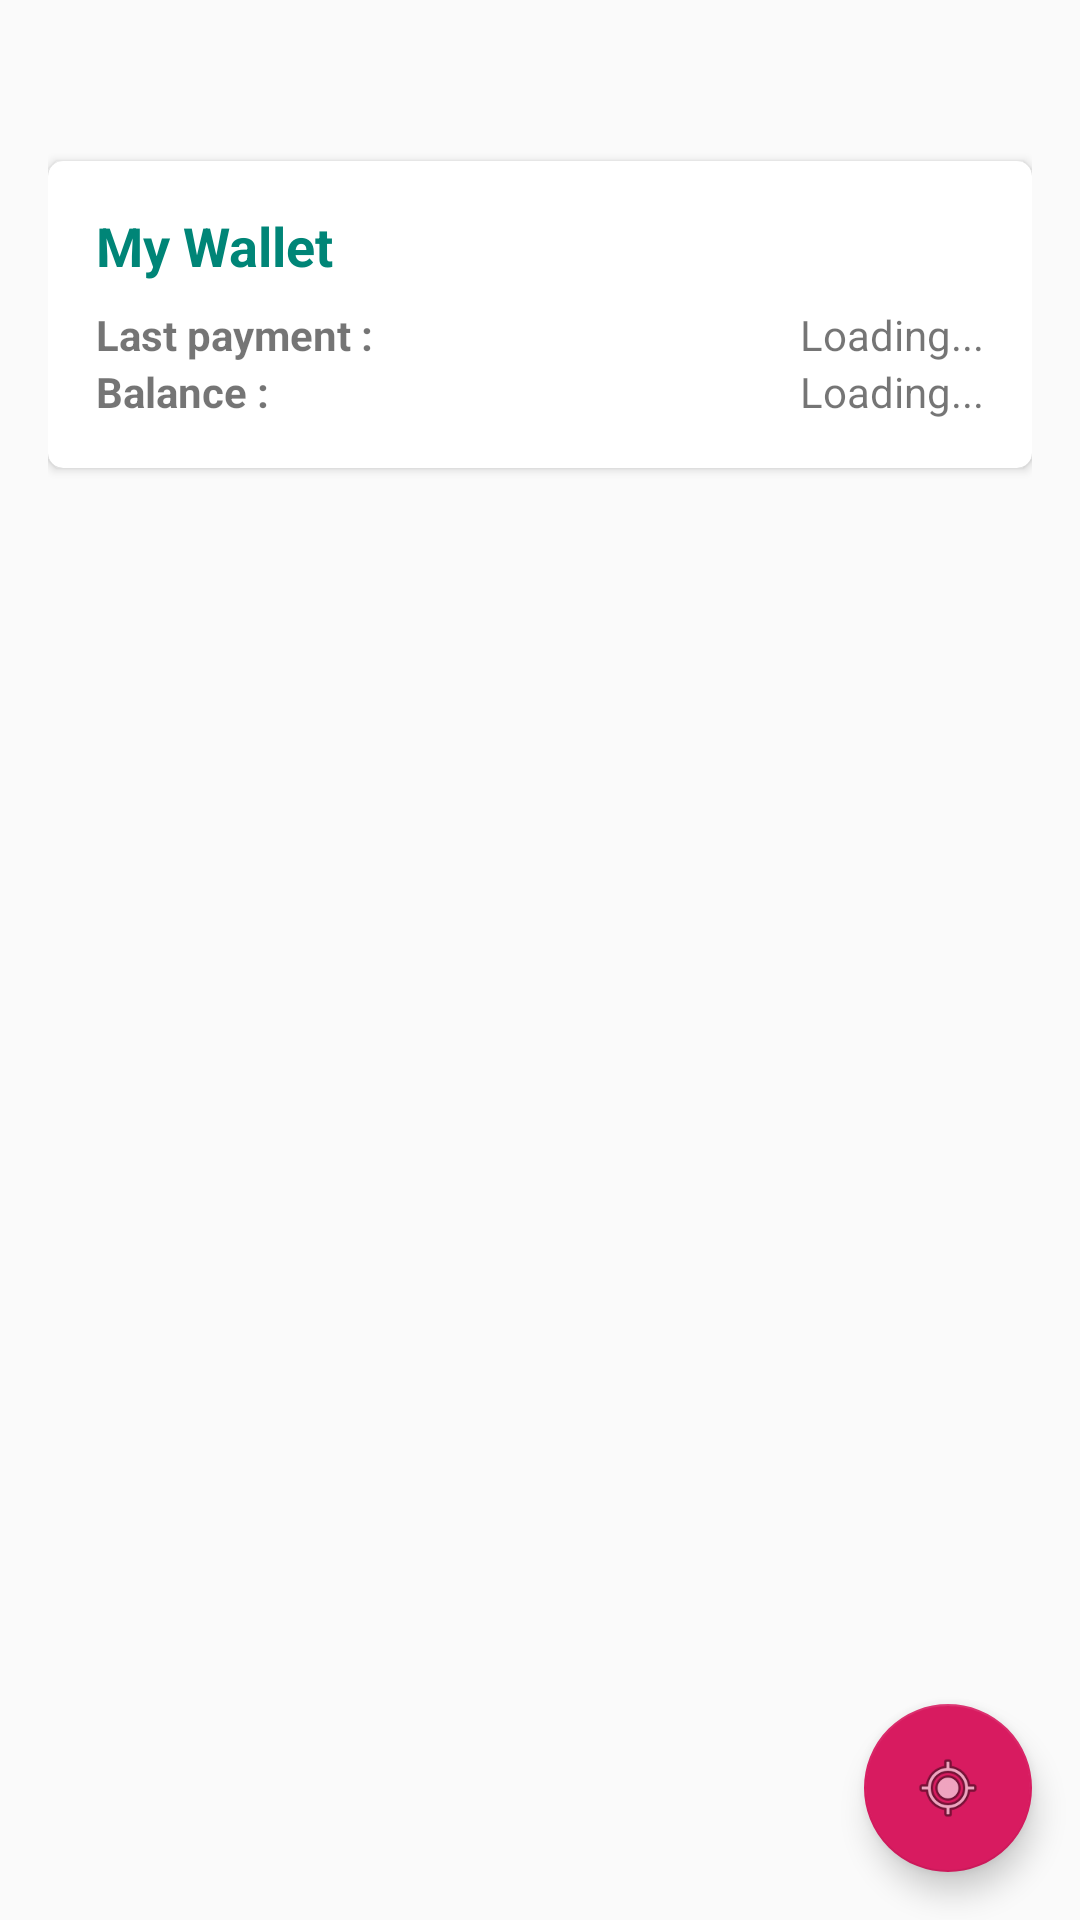

Icon bounding boxes for this 1080px×1920px phone screenshot, format (x1, y1, x2, y2):
mylocation: (864, 1704, 1032, 1872)
